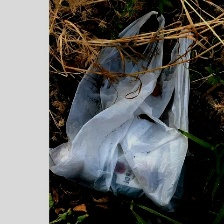plastic_bag: (40, 7, 202, 216)
